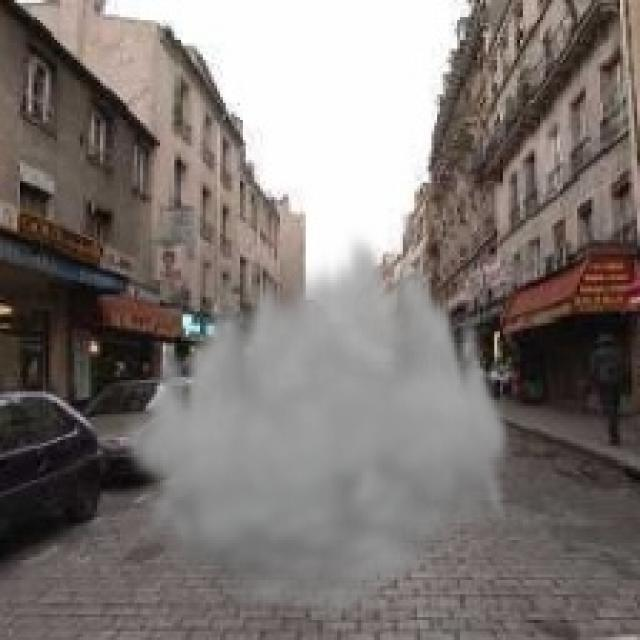Smoke: (117, 223, 514, 623)
